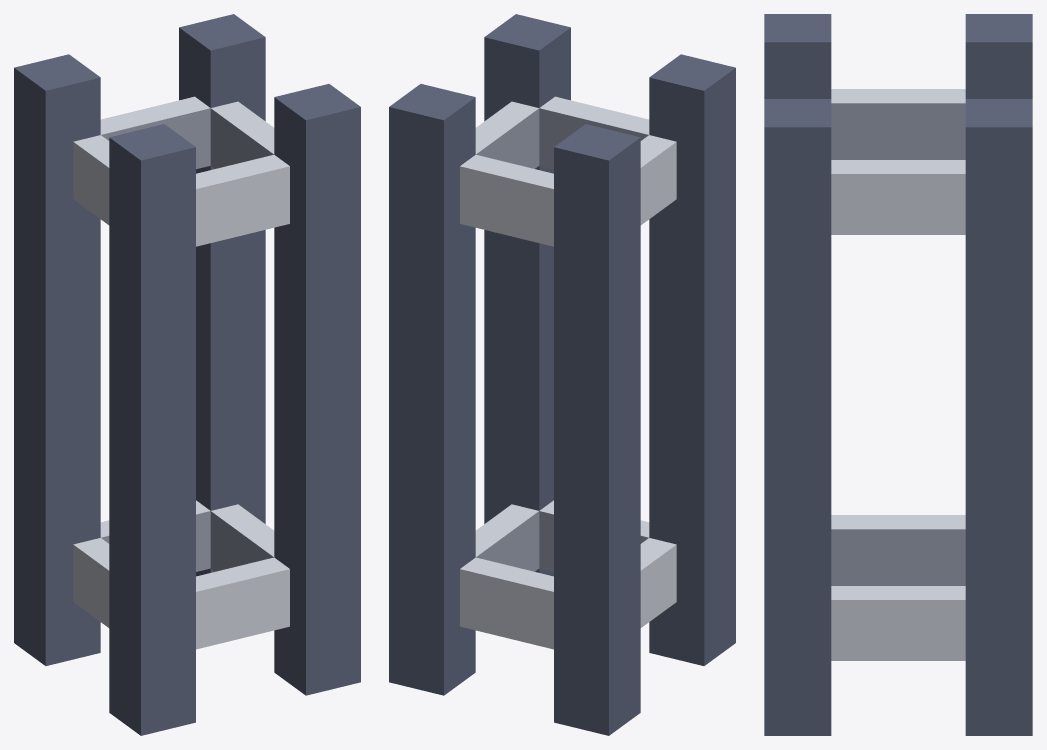
The model's file is monorail_trackSupport.glb.
3 renders of one model, left to right at view 1: azimuth 30°, elevation 25°; view 2: azimuth 150°, elevation 25°; view 3: azimuth 270°, elevation 25°, orthographic. The views are drawn at different scales.
Parts seen in each view (by area): view 1: monorail_trackSupport; view 2: monorail_trackSupport; view 3: monorail_trackSupport.
Boxes of the visible parts, <box> form: monorail_trackSupport: <box>14,14,360,735</box>; monorail_trackSupport: <box>389,14,735,735</box>; monorail_trackSupport: <box>764,14,1032,735</box>.
Size of the model in its own units: 0.2 by 0.5 by 0.2.
